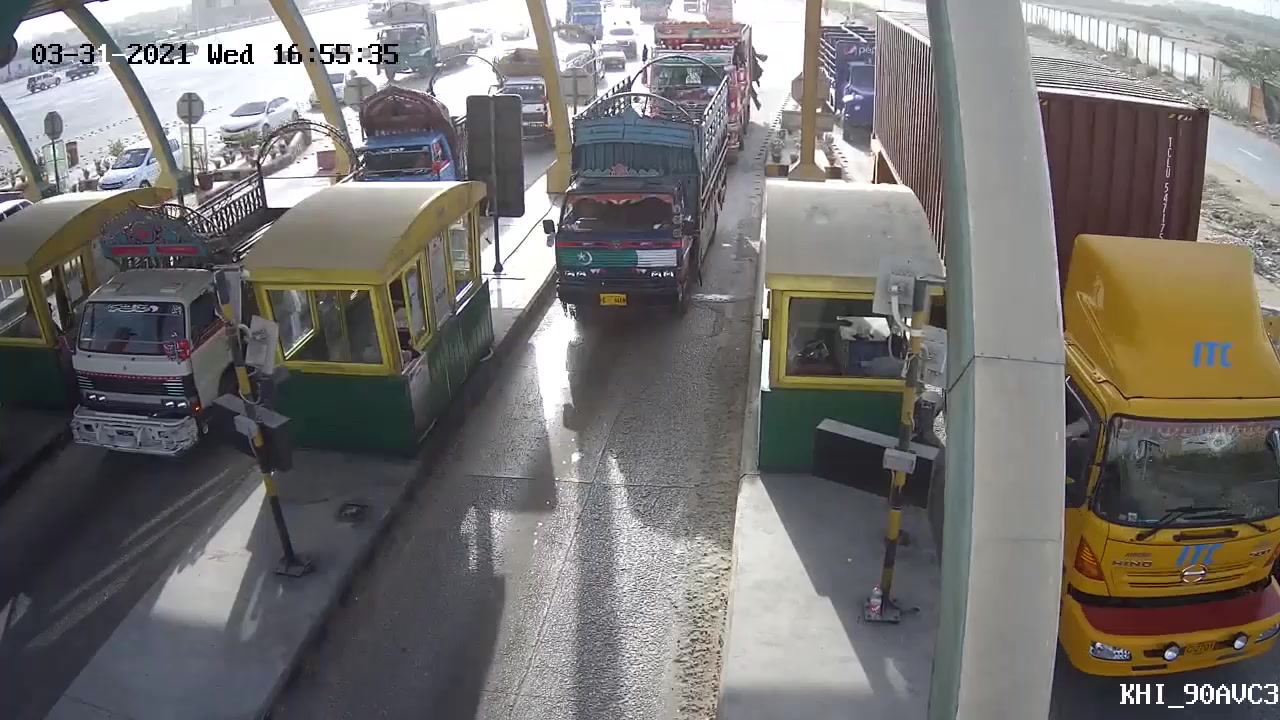F3: (527, 54, 742, 334)
